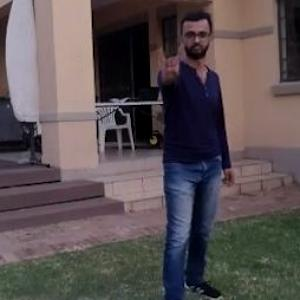takeoff-hand: (152, 37, 186, 85)
